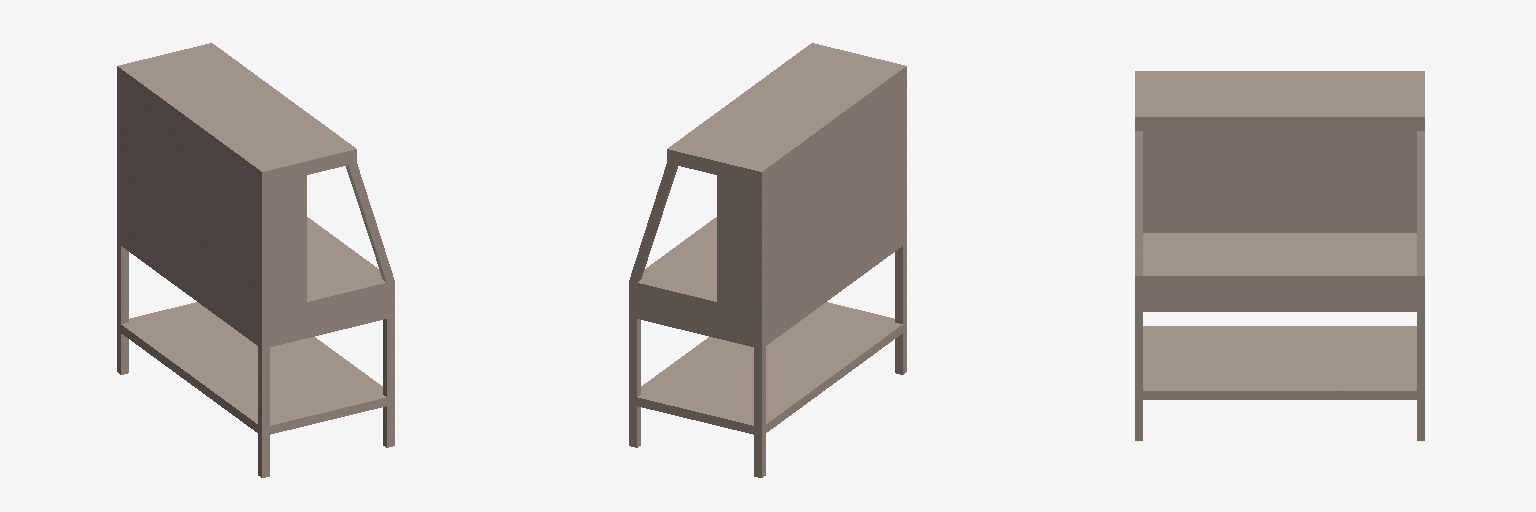
3 views of the same model, side by side, from view 1: azimuth 30°, elevation 25°; view 2: azimuth 150°, elevation 25°; view 3: azimuth 270°, elevation 25° (orthographic).
Visible parts, largest first — view 1: Box02; view 2: Box02; view 3: Box02.
Part boxes in pixels (left/top/right/bottom): Box02: left=117, top=43, right=394, bottom=477; Box02: left=629, top=43, right=906, bottom=477; Box02: left=1135, top=71, right=1424, bottom=440.
Bounding box in the file's own units: 27.09 × 59.81 × 51.39.
Materials: 1 (1 with a texture image).